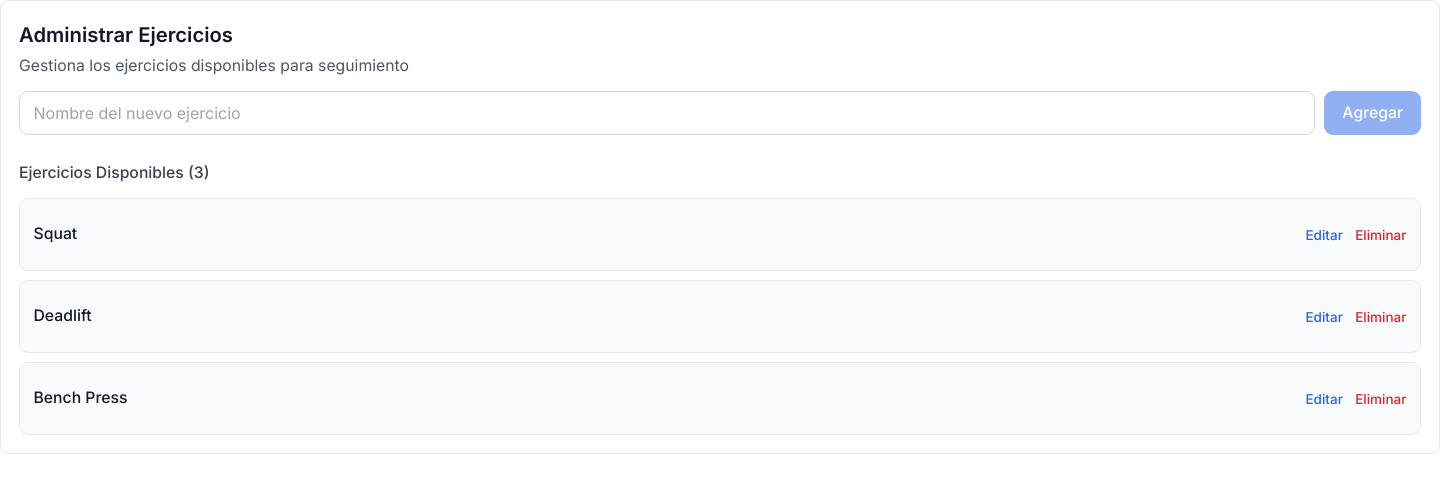
ExerciseManagementSection › handles cancel edit correctly
// Click edit button for first exercise
Click the button "Editar" in the row of "Squat".
click(1324, 234)  # box x1=1302 y1=212 x2=1346 y2=256
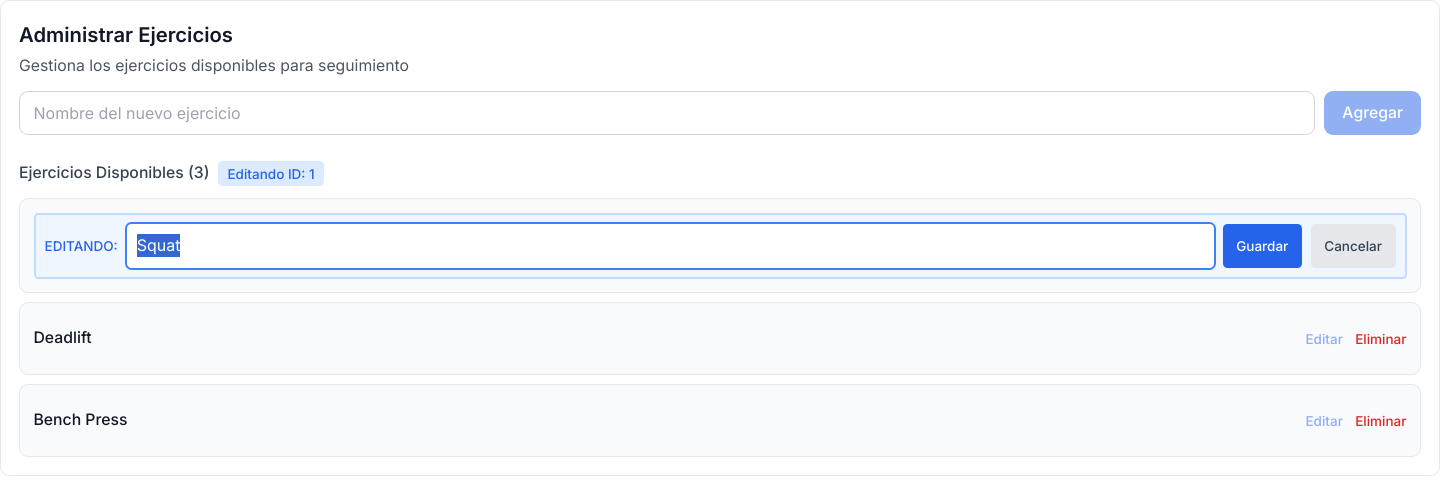
Check: the field showing "Squat" is shown, box x1=127 y1=224 x2=1214 y2=268
Check: the button "Cancelar" is shown
// Click cancel
Click the button "Cancelar".
click(1353, 246)  # box x1=1311 y1=224 x2=1396 y2=268
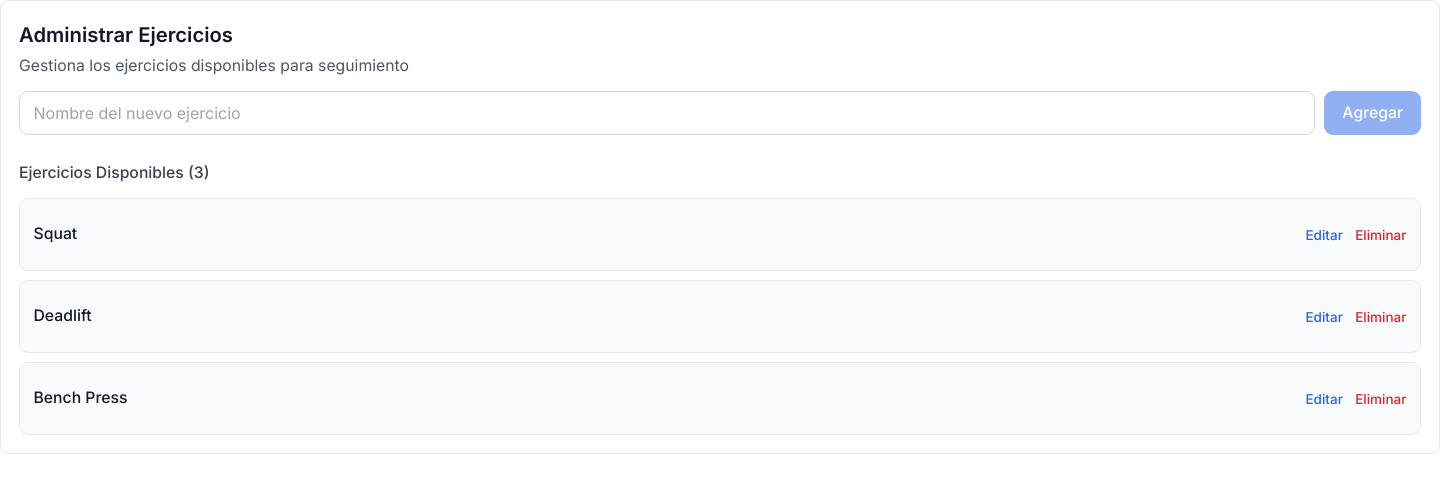
Check: the text "Squat" is shown, box x1=34 y1=223 x2=77 y2=246
